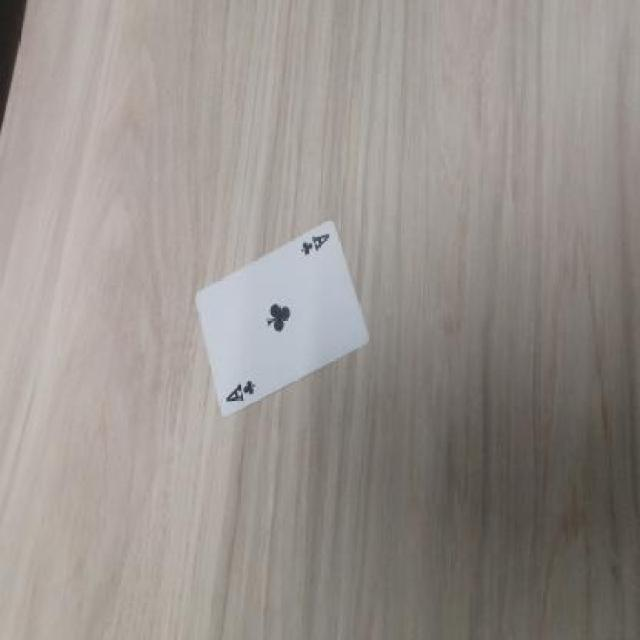AC: (292, 224, 339, 261), (224, 373, 261, 418)
